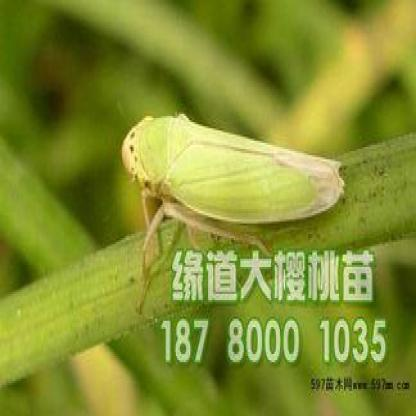Green-Leafhopper: (120, 106, 343, 262)
